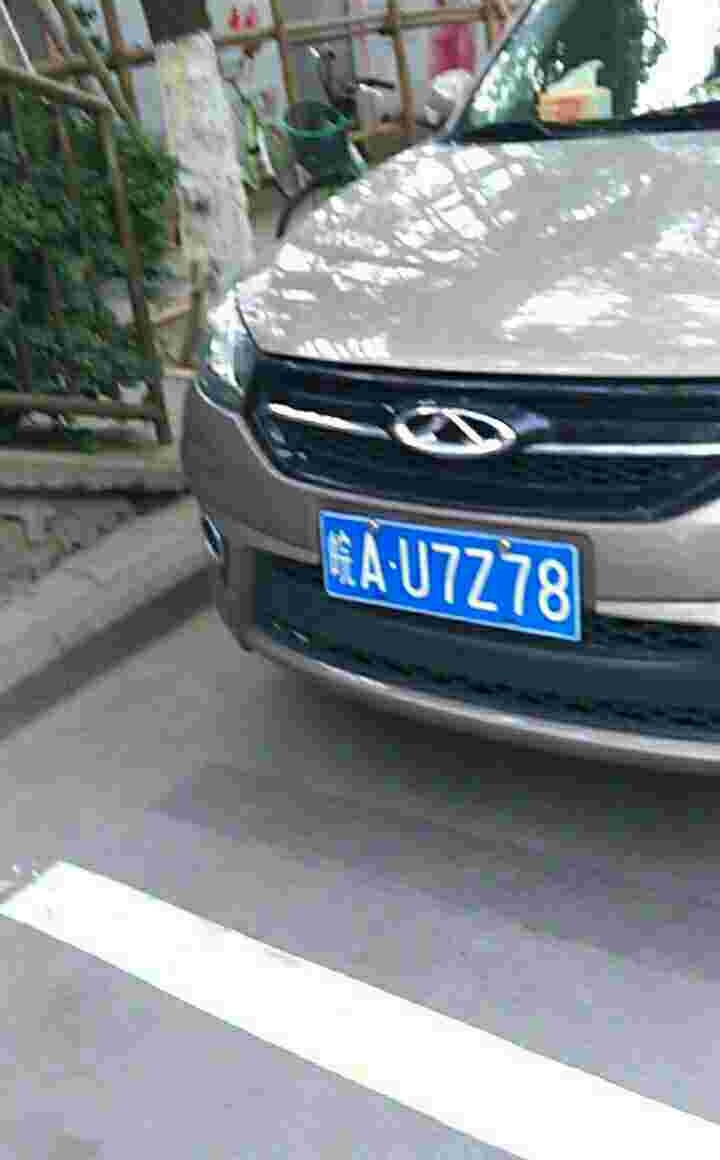car: (317, 508, 599, 649)
